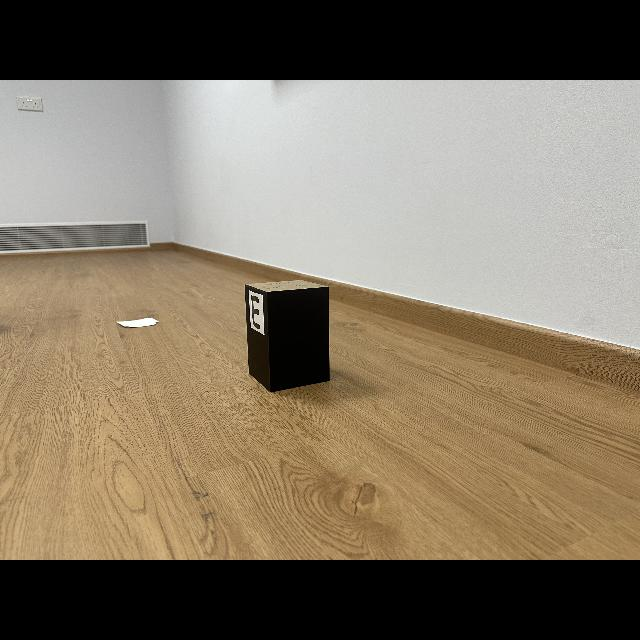E: (251, 296, 260, 329)
